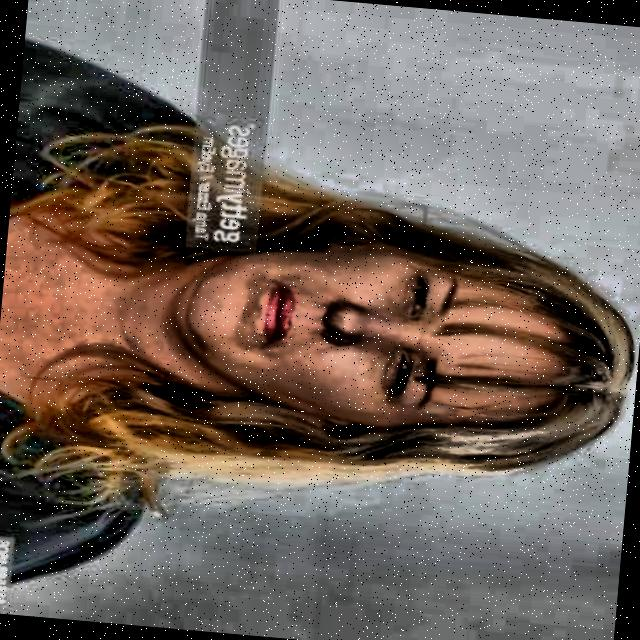sad: (155, 165, 640, 524)
